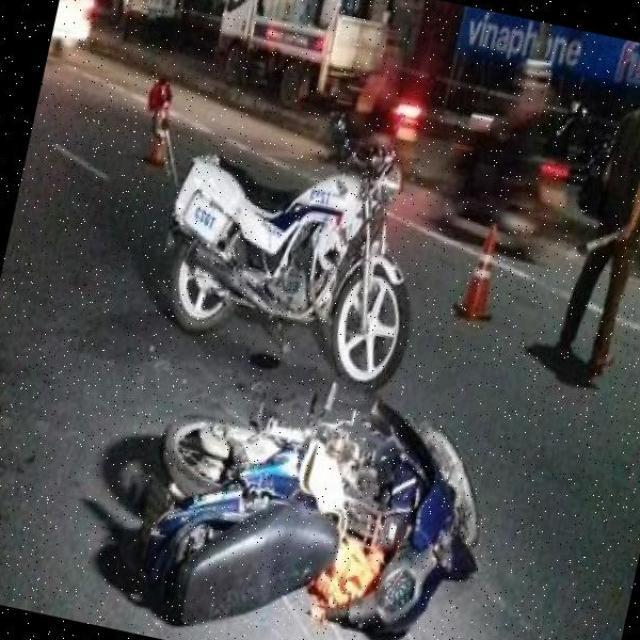accident: (102, 335, 516, 640)
